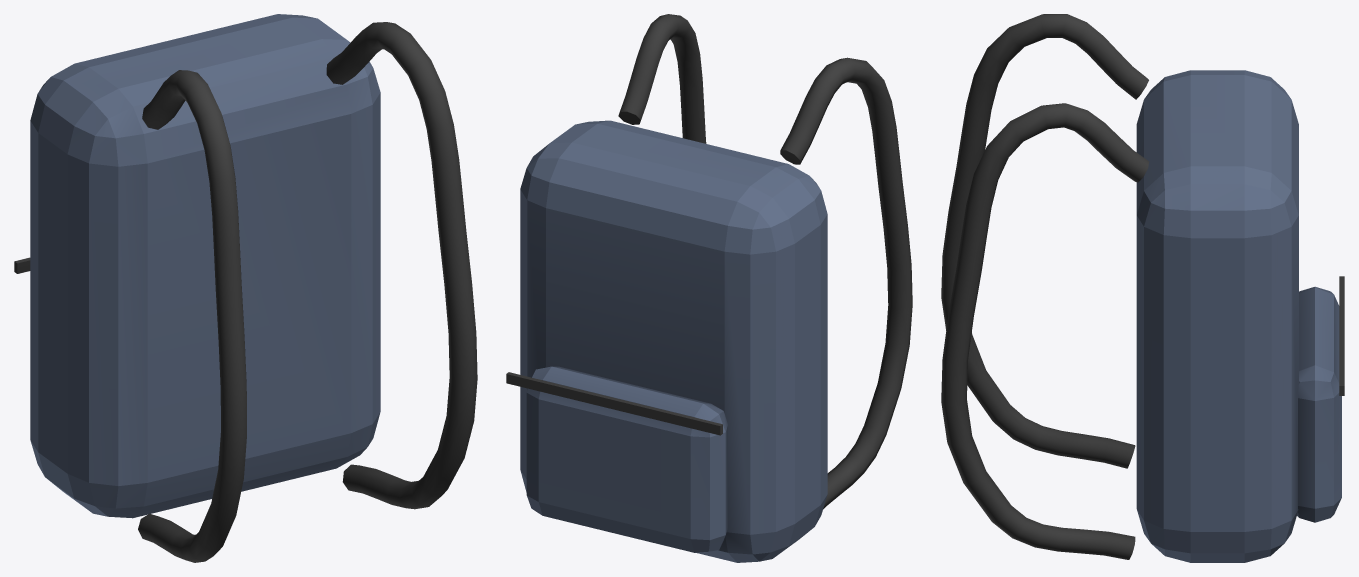
The model's file is acc_backpack.glb.
The picture shows the model from 3 angles, left to right: view 1: azimuth 30°, elevation 25°; view 2: azimuth 150°, elevation 25°; view 3: azimuth 270°, elevation 25°; orthographic projection. The views are drawn at different scales.
Parts seen in each view (by area): view 1: body; view 2: body; view 3: body.
Boxes of the visible parts, box(x1,y1,x2,y2) form: body: box(14, 14, 477, 562); body: box(506, 14, 912, 562); body: box(941, 14, 1344, 562).
Size of the model in its own units: 0.3 by 0.4644 by 0.3734.
